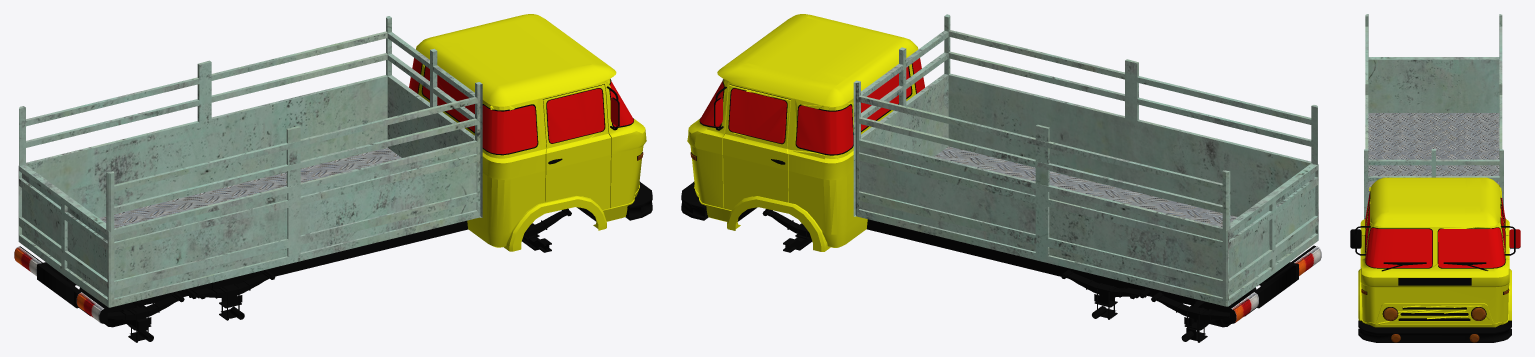
Rendered from Truck__Body__.fbx.
3 views of the same model, side by side, from view 1: azimuth 30°, elevation 25°; view 2: azimuth 150°, elevation 25°; view 3: azimuth 270°, elevation 25° (orthographic). The views are drawn at different scales.
Parts seen in each view (by area): view 1: polySurface603; view 2: polySurface603; view 3: polySurface603.
Boxes of the visible parts, x1,y1,x2,y2 form: polySurface603: (14,14,652,342); polySurface603: (681,14,1321,342); polySurface603: (1350,14,1520,342).
Bounding box in the file's own units: 82.77 × 27.86 × 29.1.
